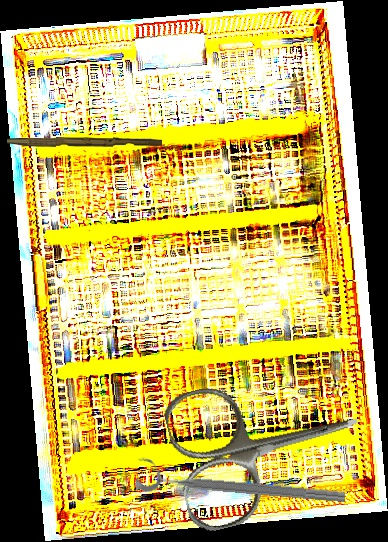Fixation Ring: (134, 454, 348, 510)
Iris Scissors: (160, 354, 375, 536)
Scalpel Handle: (6, 135, 163, 150)
